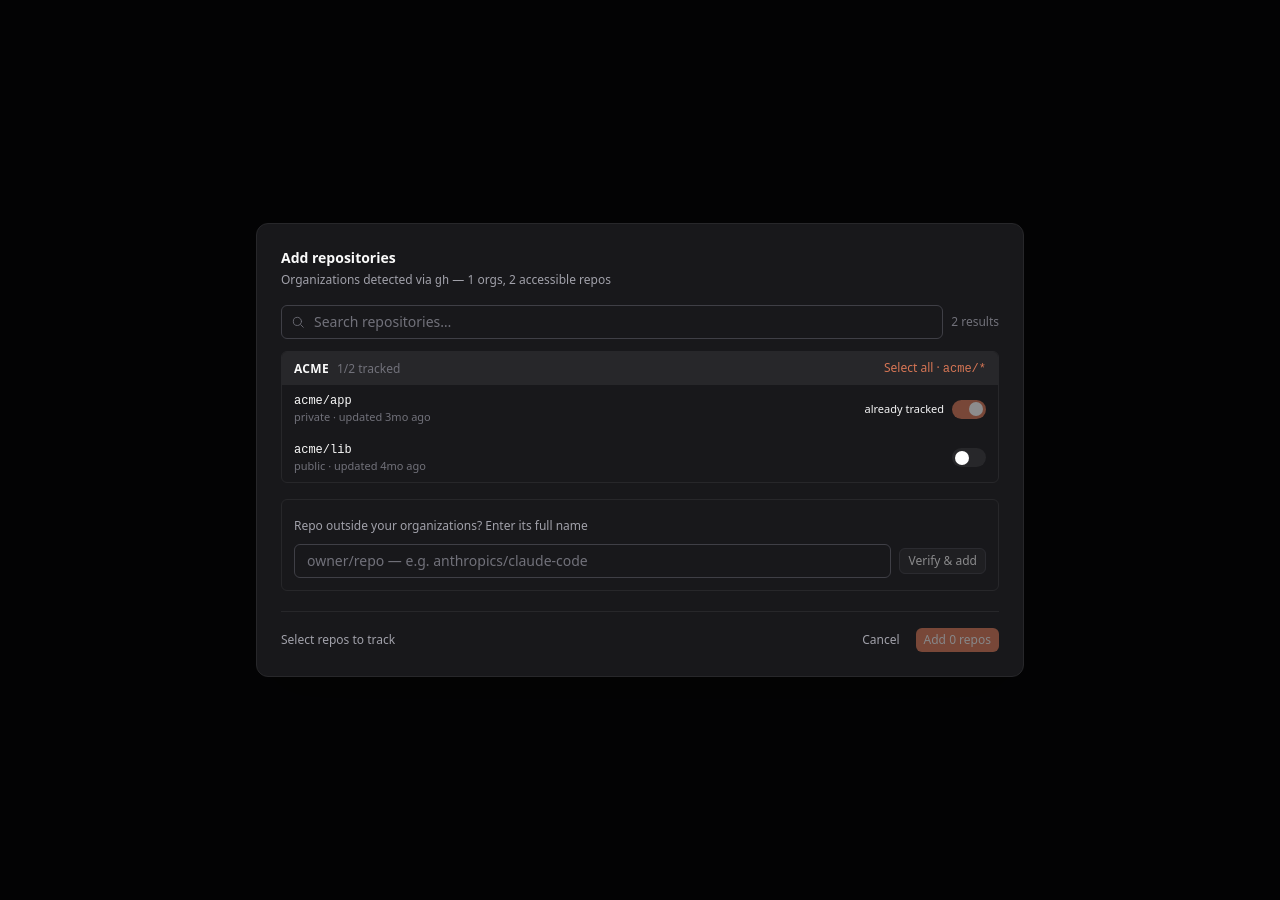
it: AddRepositoriesModal › marks tracked repos and lets you select the rest
This screenshot has width=1280, height=900.
Expected: the text "acme/lib" is shown, [294,442,352,456]
Expected: the text "already tracked" is shown, [864,401,944,418]
What coordinates should you click on to do the following:
click the switch named "acme/lib"
I would click on:
 (969, 458)
Its box is [952,448,986,467].
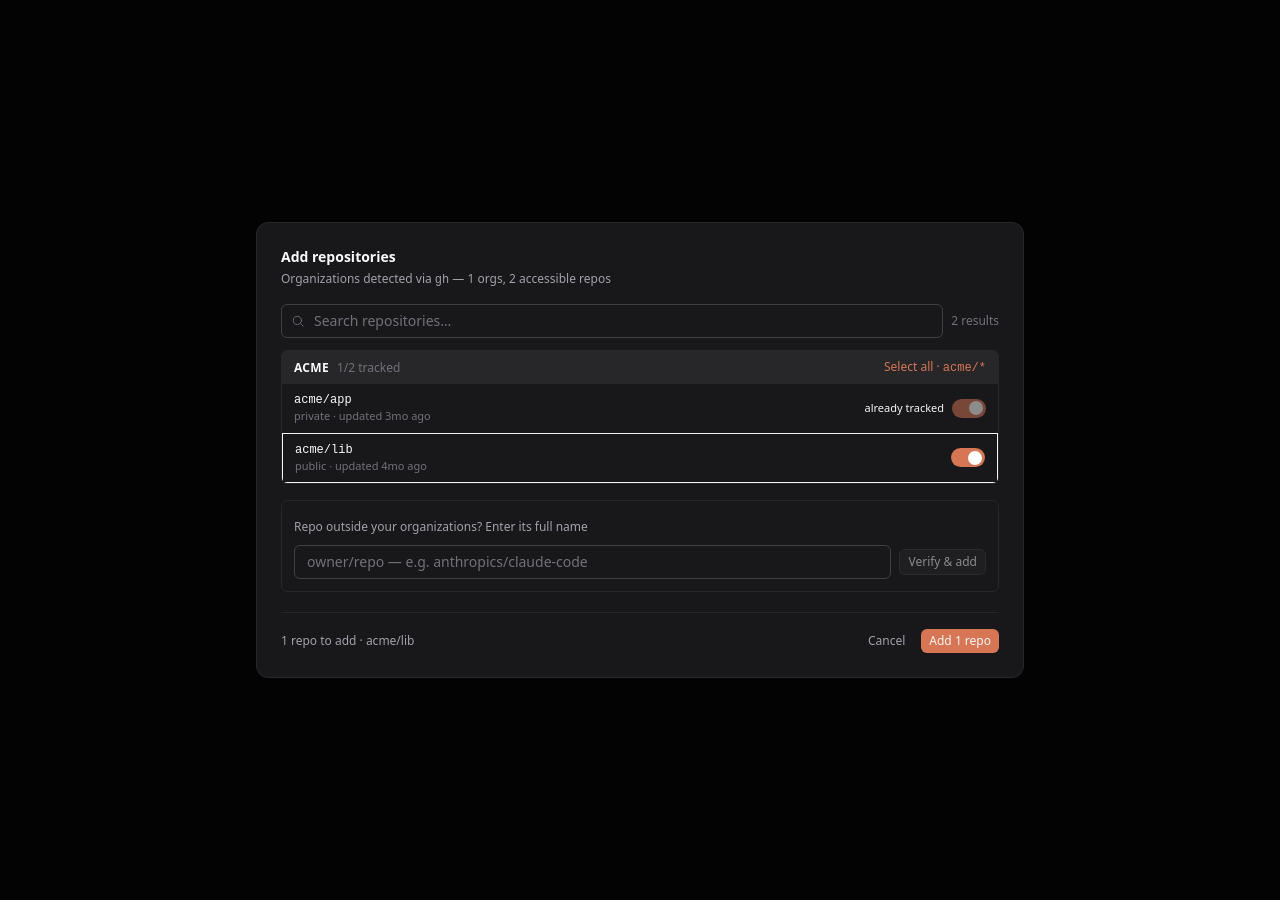
Now the button "Add 1 repo" is shown, box [921,629,999,653]
